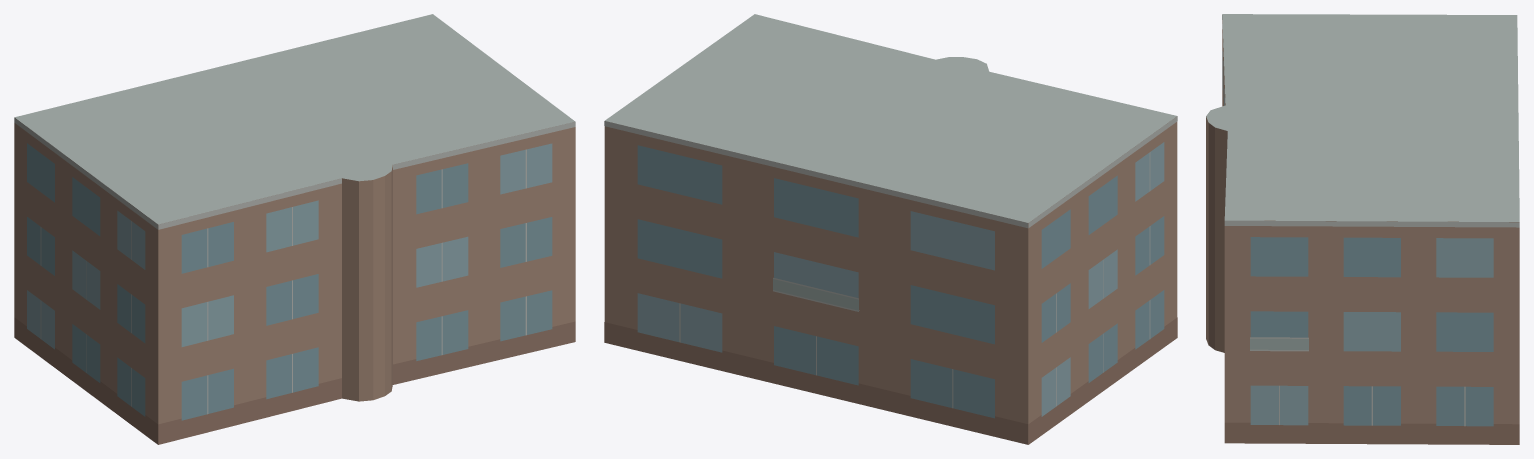
File: survey-upis-32742585.glb
3 views of the same model, side by side, from view 1: azimuth 30°, elevation 25°; view 2: azimuth 150°, elevation 25°; view 3: azimuth 270°, elevation 25° (orthographic).
Parts seen in each view (by area): view 1: survey-upis-32742585.tmp; view 2: survey-upis-32742585.tmp; view 3: survey-upis-32742585.tmp.
Boxes of the visible parts, box(x1,y1,x2,y2) form: survey-upis-32742585.tmp: box(14, 14, 575, 444); survey-upis-32742585.tmp: box(604, 14, 1177, 444); survey-upis-32742585.tmp: box(1206, 14, 1519, 444).
Size of the model in its own units: 20.25 by 10.1 by 12.9.
